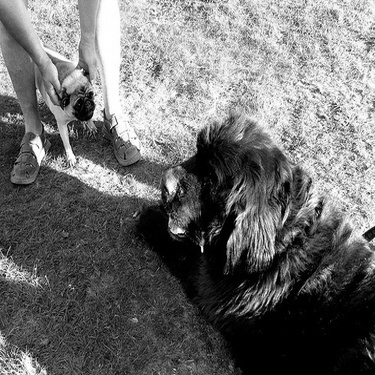dog: (127, 98, 358, 358), (4, 13, 112, 179)
